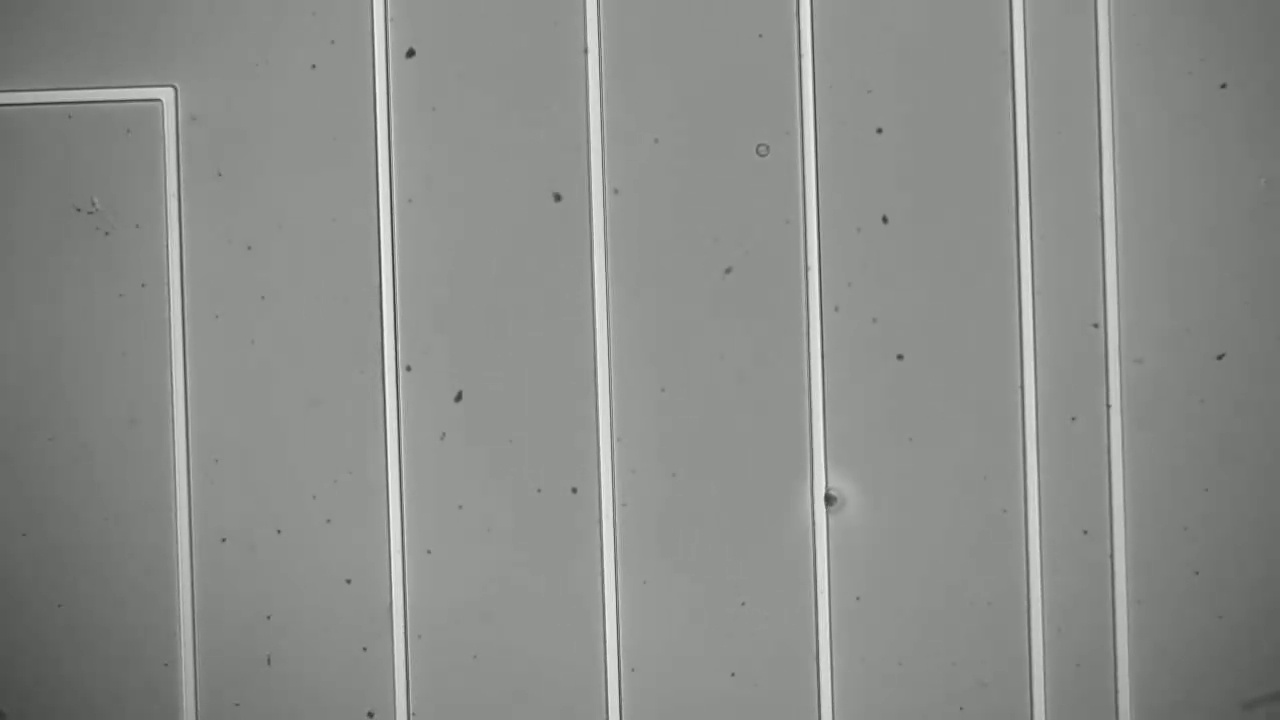stains_enbedded: (808, 487, 848, 515)
